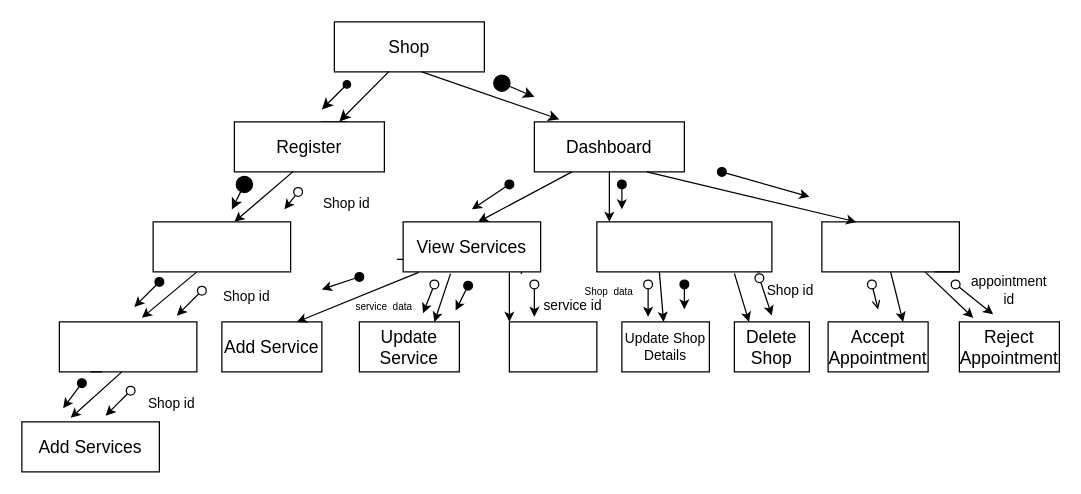
The diagram is 1081 pixels wide and 494 high, and some of its shapes have lost their labels. The shapes that lost their labels are listed below. From the top down, each one's centre as x and y in pixels, then its label:
At (x=221, y=246): "Add Shop Info".
At (x=684, y=246): "View Shop Detail".
At (x=890, y=246): "View Appointments".
At (x=127, y=346): "Add Contact Details".
At (x=552, y=346): "Delete Service".
